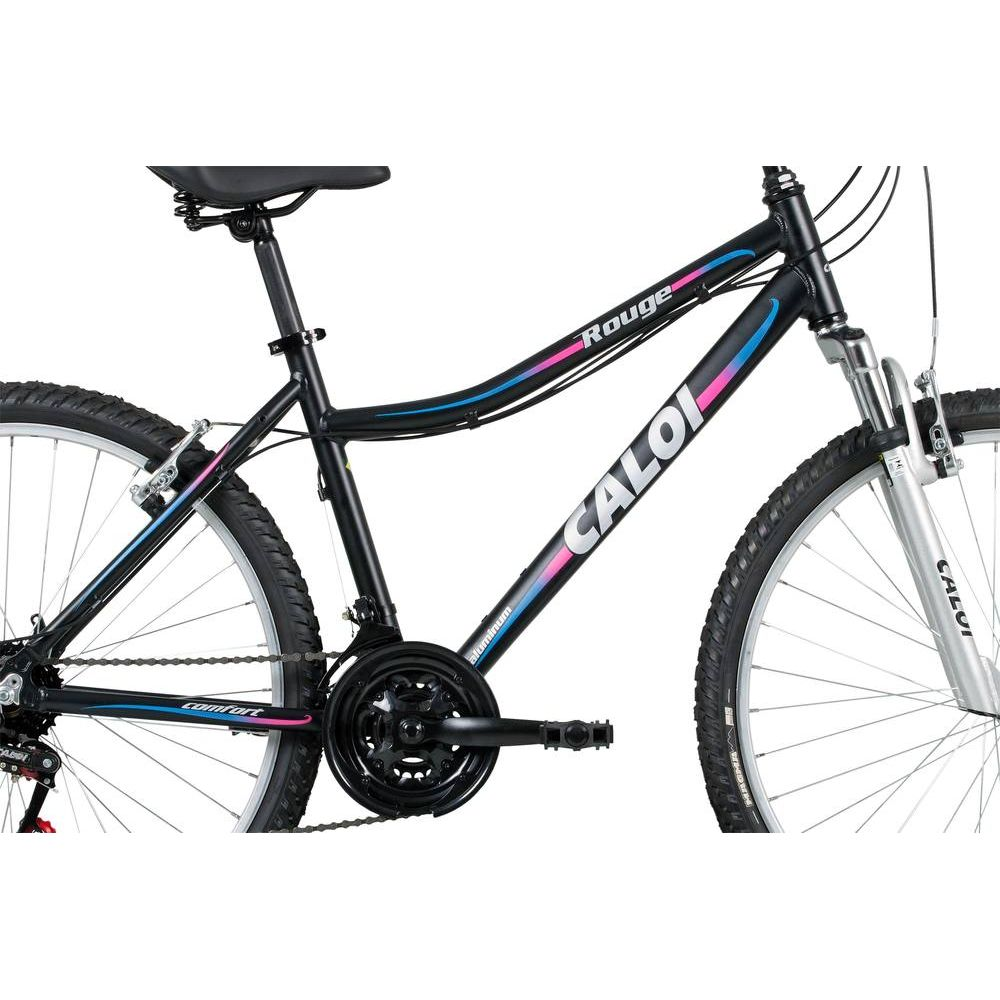RoadBike: (137, 189, 877, 804)
